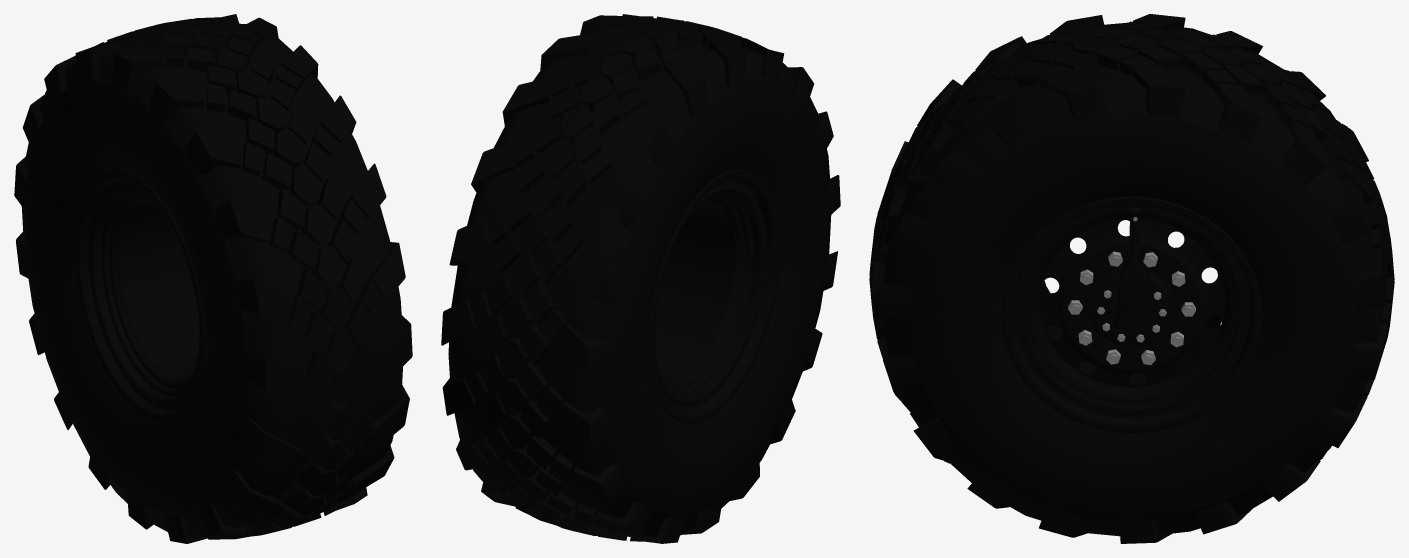
The model's file is wheel.glb.
The picture shows the model from 3 angles, left to right: view 1: azimuth 30°, elevation 25°; view 2: azimuth 150°, elevation 25°; view 3: azimuth 270°, elevation 25°; orthographic projection.
Parts seen in each view (by area): view 1: Object_2, Object_3; view 2: Object_2, Object_3; view 3: Object_2, Object_3.
Boxes of the visible parts, box(x1,y1,x2,y2) form: Object_2: box(21, 23, 402, 537); Object_3: box(14, 14, 412, 543); Object_2: box(448, 22, 831, 537); Object_3: box(441, 14, 840, 543); Object_2: box(883, 22, 1382, 536); Object_3: box(869, 14, 1394, 543).
Bounding box in the file's own units: 0.4528 × 1.2 × 1.2.
Materials: 1 (1 with a texture image).
